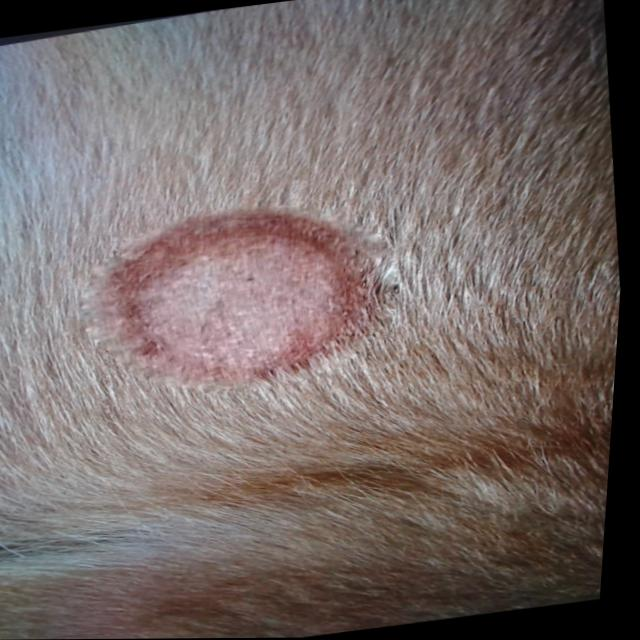ringworm: (83, 172, 405, 432)
